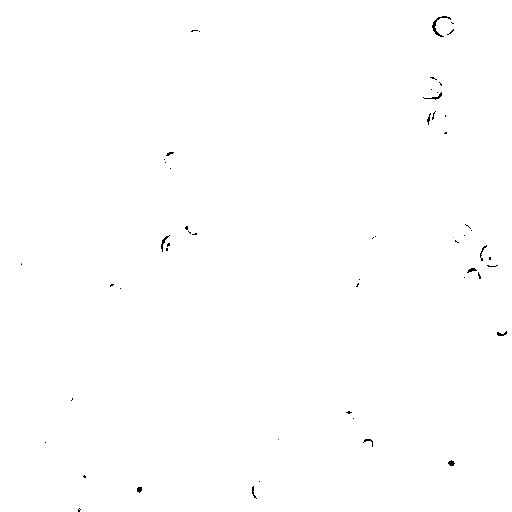micro-algae: (325, 269, 445, 389), (76, 252, 131, 308), (119, 443, 172, 497), (165, 395, 216, 449), (413, 56, 464, 105), (4, 29, 53, 76), (109, 0, 163, 29), (431, 441, 471, 480), (120, 473, 155, 505), (213, 37, 246, 69), (6, 245, 39, 277), (425, 105, 456, 137), (386, 283, 419, 313), (251, 463, 281, 493), (477, 239, 505, 269), (1, 166, 29, 194), (161, 233, 188, 261), (431, 12, 458, 39), (416, 75, 445, 100), (141, 240, 167, 267), (67, 461, 95, 486), (325, 328, 351, 354), (161, 149, 189, 173), (36, 421, 60, 449), (127, 75, 152, 100), (436, 267, 460, 293), (127, 426, 153, 450), (181, 26, 205, 49), (268, 425, 291, 449), (461, 267, 482, 293), (340, 268, 363, 291), (251, 476, 270, 503), (452, 221, 474, 243), (146, 285, 168, 306), (399, 1, 421, 21), (57, 383, 77, 405), (365, 234, 388, 252), (379, 248, 403, 265), (175, 449, 190, 475), (185, 217, 205, 236), (497, 407, 511, 430), (46, 125, 63, 143), (493, 319, 510, 336), (109, 281, 125, 299), (123, 1, 141, 15), (83, 251, 97, 269), (361, 435, 374, 453), (64, 501, 84, 512), (343, 409, 355, 425)
